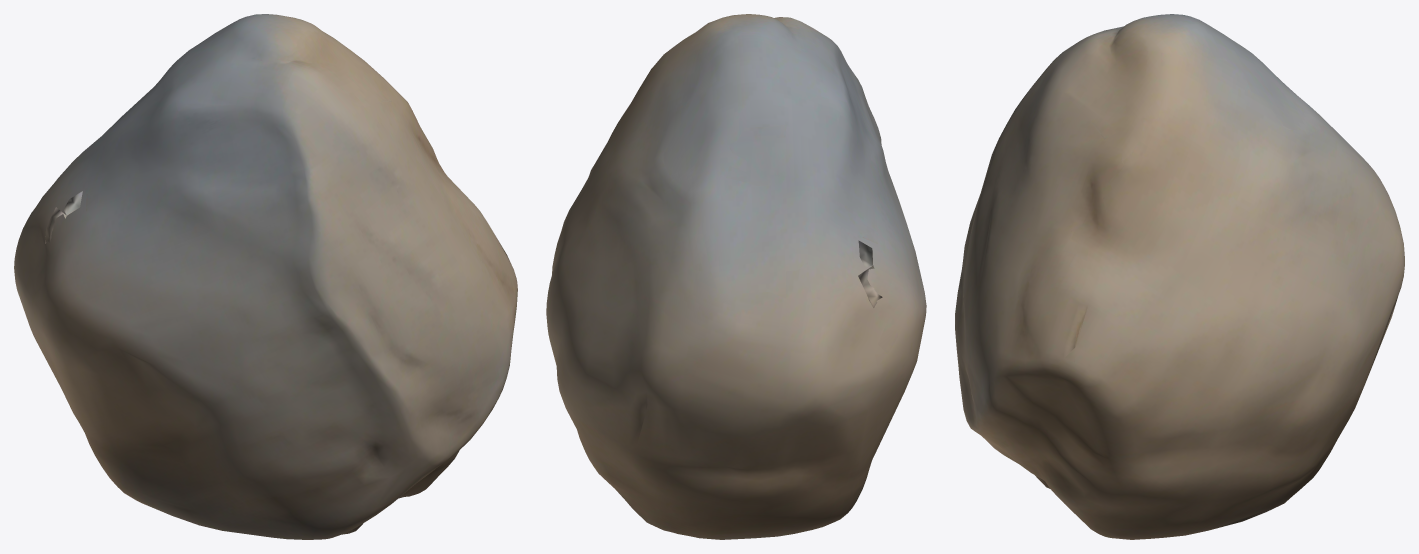
Rendered from large_rock_051293c4_v3.glb.
3 views of the same model, side by side, from view 1: azimuth 30°, elevation 25°; view 2: azimuth 150°, elevation 25°; view 3: azimuth 270°, elevation 25° (orthographic). The views are drawn at different scales.
Visible parts, largest first — view 1: material; view 2: material; view 3: material.
Part boxes in pixels (x1,y1,x2,y2): material: (14,14,517,539); material: (546,14,926,539); material: (955,14,1404,539).
Bounding box in the file's own units: 1.65 × 1.9 × 1.68.
Materials: 1 (1 with a texture image).
